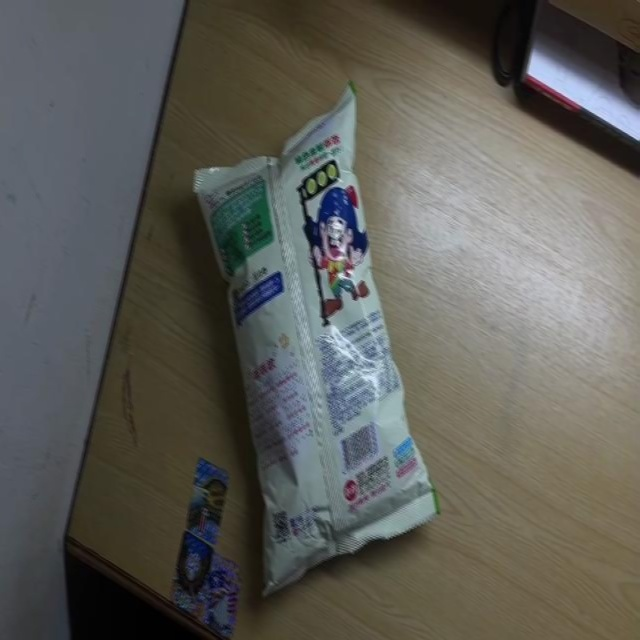Good-Luck: (196, 82, 441, 599)
